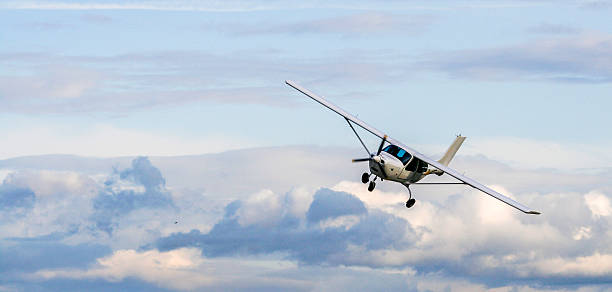plane: (284, 80, 542, 217)
